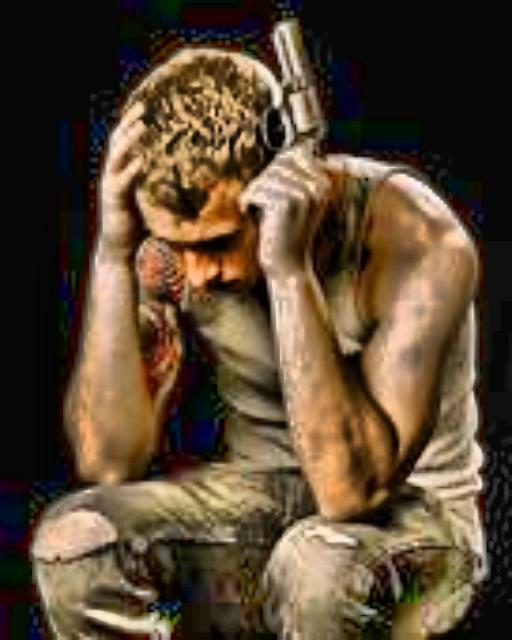pistol: (244, 11, 316, 203)
